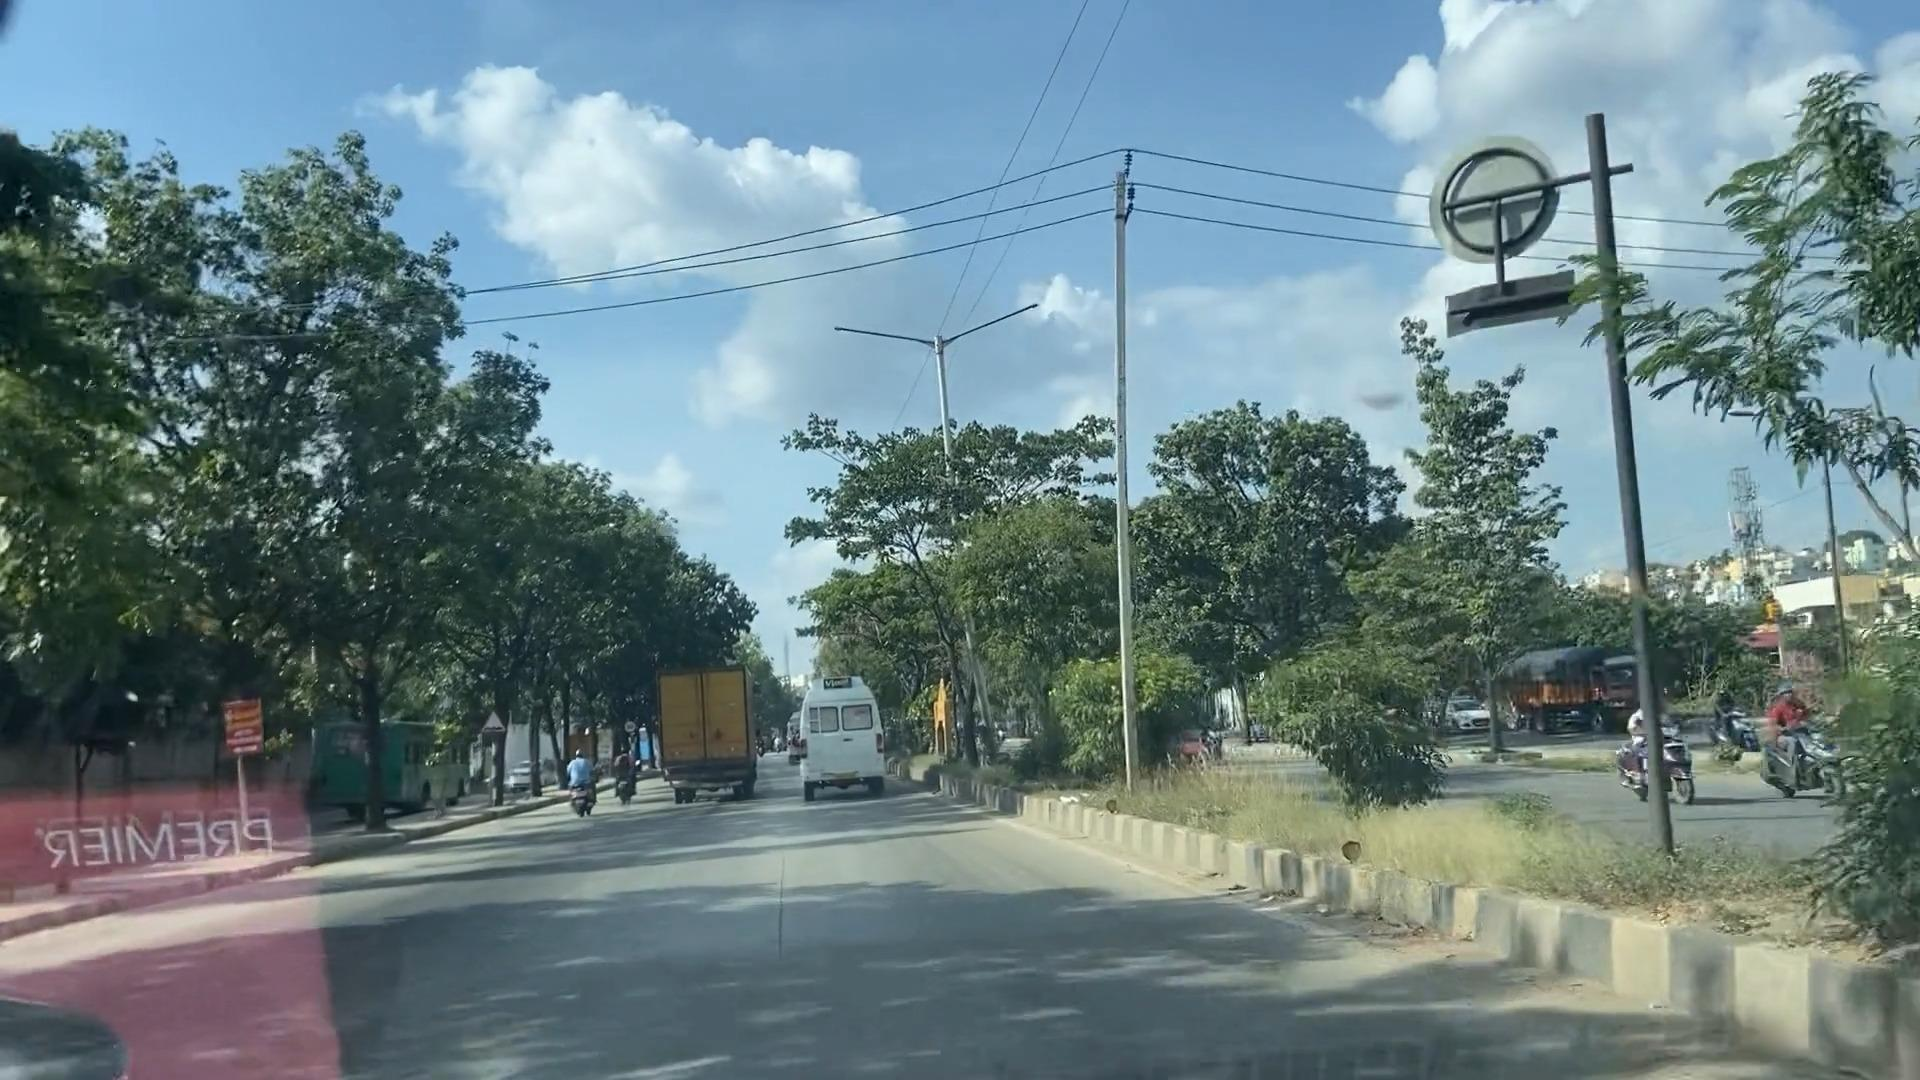HMV: (618, 663, 770, 798)
